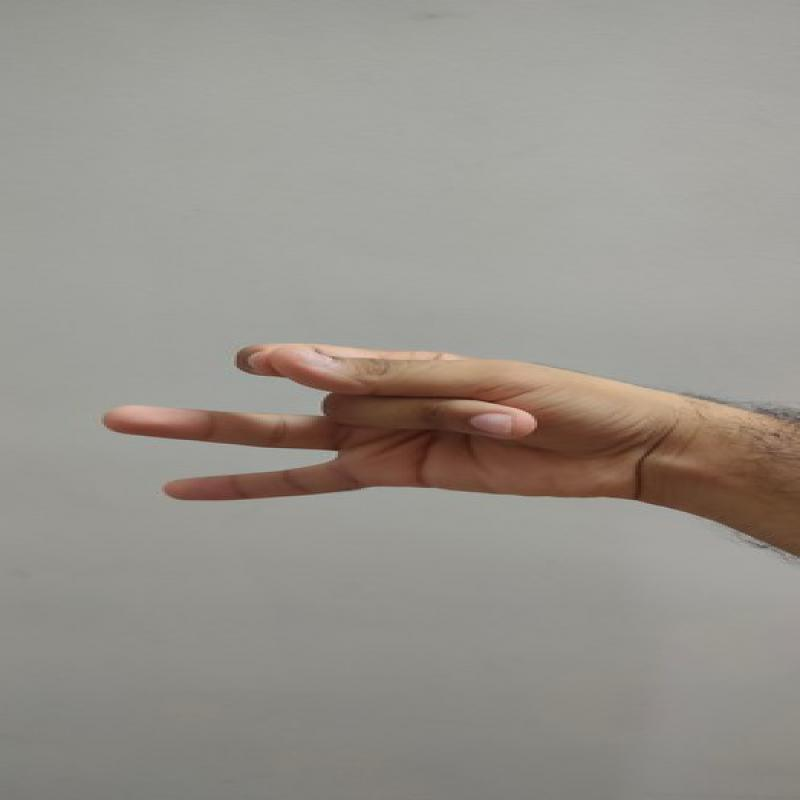Katakam: (91, 329, 687, 523)
